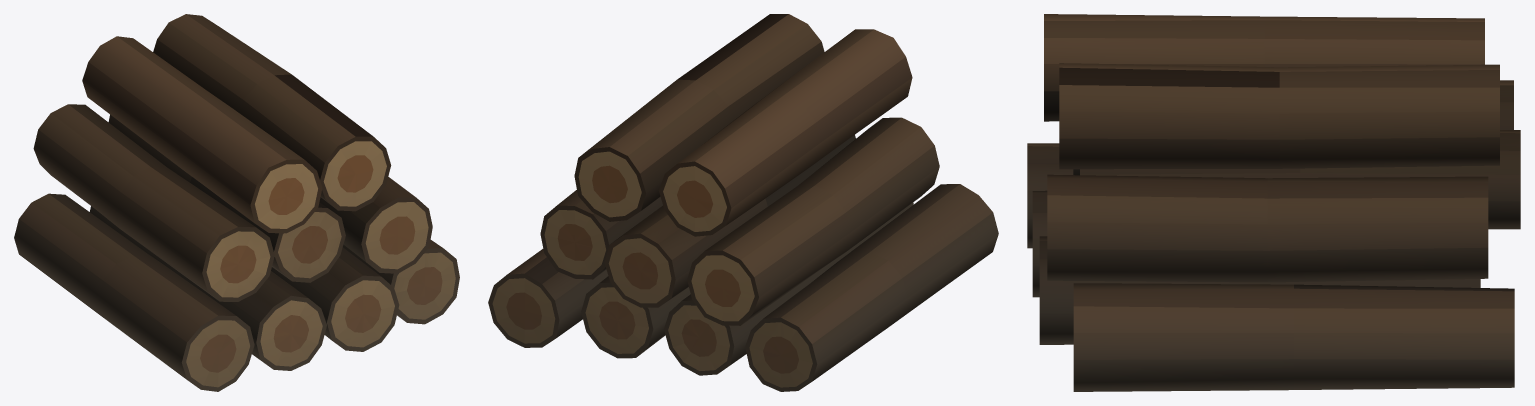
File: logs.glb
3 renders of one model, left to right at view 1: azimuth 30°, elevation 25°; view 2: azimuth 150°, elevation 25°; view 3: azimuth 270°, elevation 25°, orthographic. The views are drawn at different scales.
Visible parts, largest first — view 1: log-001; view 2: log-001; view 3: log-001.
Part boxes in pixels (x1,y1,x2,y2): log-001: (14, 14, 459, 391); log-001: (488, 14, 998, 391); log-001: (1027, 14, 1520, 391).
Bounding box in the file's own units: 1.11 × 0.7504 × 1.23.
